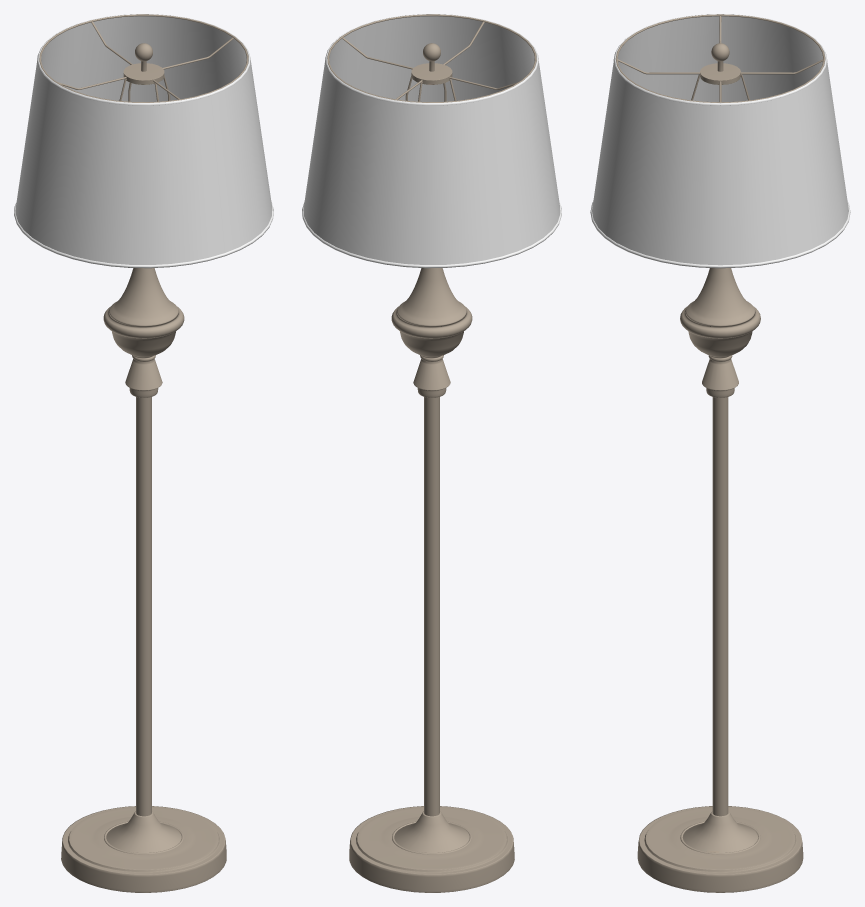
Rendered from abo-B07DBHCKKD.glb.
3 views of the same model, side by side, from view 1: azimuth 30°, elevation 25°; view 2: azimuth 150°, elevation 25°; view 3: azimuth 270°, elevation 25° (orthographic).
Bounding box in the file's own units: 0.431 × 1.49 × 0.431.
Materials: 1 (1 with a texture image).
